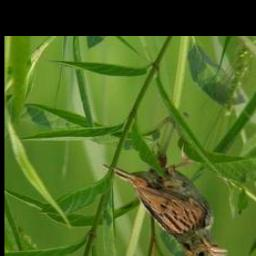Sparrow: (99, 138, 231, 256)
